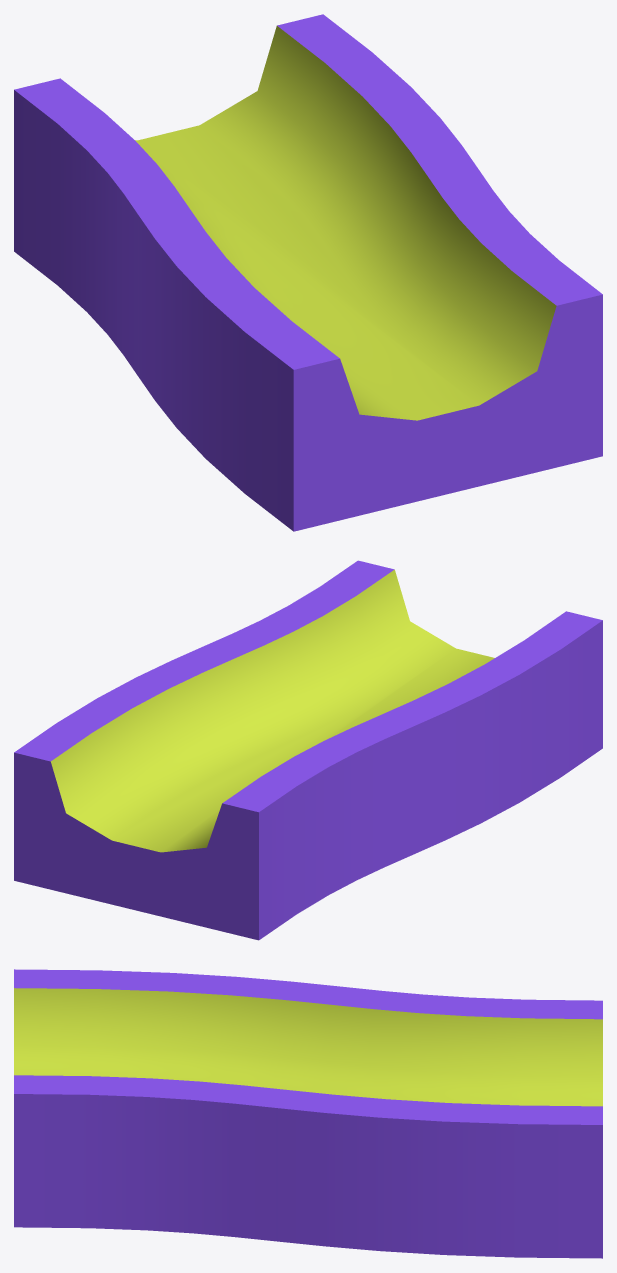
Rendered from s-curve_short_left_A.dae.
3 views of the same model, one above another, from view 1: azimuth 30°, elevation 25°; view 2: azimuth 150°, elevation 25°; view 3: azimuth 270°, elevation 25° (orthographic). The views are drawn at different scales.
Parts seen in each view (by area): view 1: s-curve_short_left_A; view 2: s-curve_short_left_A; view 3: s-curve_short_left_A.
Boxes of the visible parts, bbox=[...] form: s-curve_short_left_A: bbox=[14, 14, 602, 531]; s-curve_short_left_A: bbox=[14, 560, 602, 940]; s-curve_short_left_A: bbox=[14, 969, 602, 1258].
Size of the model in its own units: 1.25 by 0.5 by 2.
